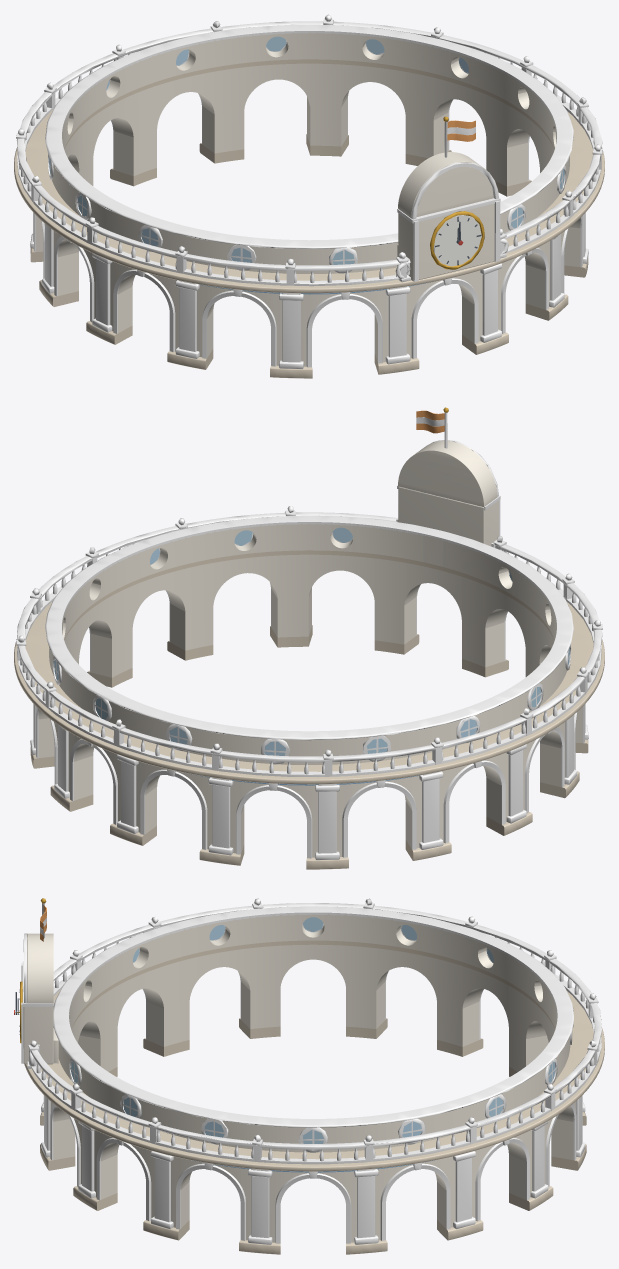
File: fine_hub.glb
The picture shows the model from 3 angles, top to bottom: view 1: azimuth 30°, elevation 25°; view 2: azimuth 150°, elevation 25°; view 3: azimuth 270°, elevation 25°; orthographic projection.
Parts seen in each view (by area): view 1: fine_hub_structure; view 2: fine_hub_structure; view 3: fine_hub_structure.
Boxes of the visible parts, box(x1,y1,x2,y2) form: fine_hub_structure: box(14, 14, 604, 378); fine_hub_structure: box(14, 407, 604, 869); fine_hub_structure: box(14, 898, 604, 1254).
Size of the model in its own units: 16 by 7.3 by 16.21.
